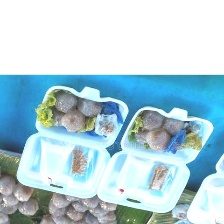foam_box: (12, 82, 131, 201), (93, 103, 215, 215), (183, 148, 223, 223)
